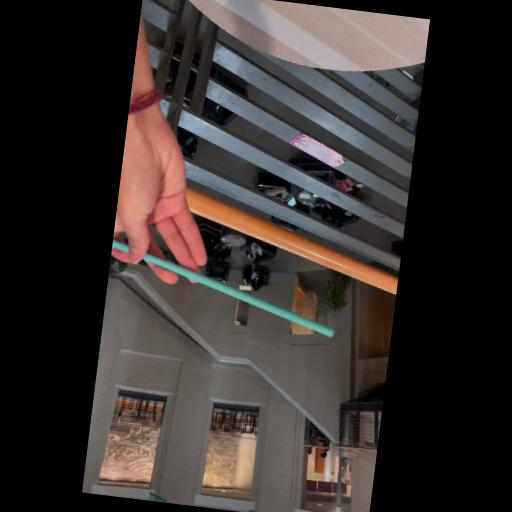straw: (105, 230, 346, 335)
